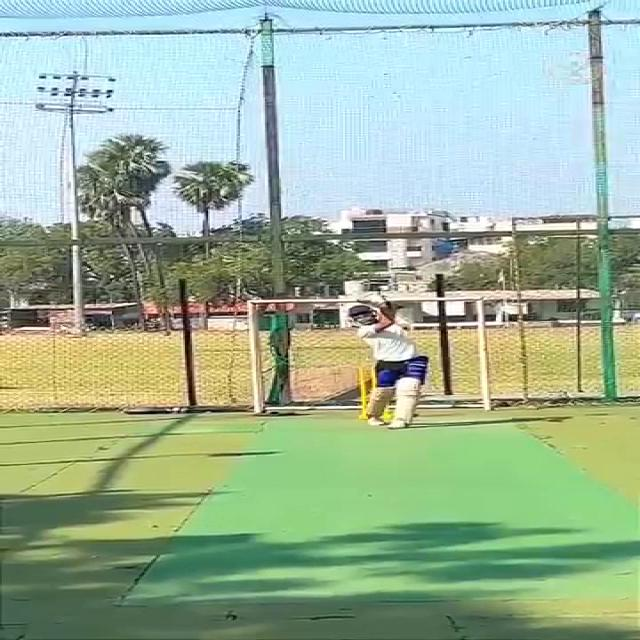batsman: (342, 289, 431, 432)
